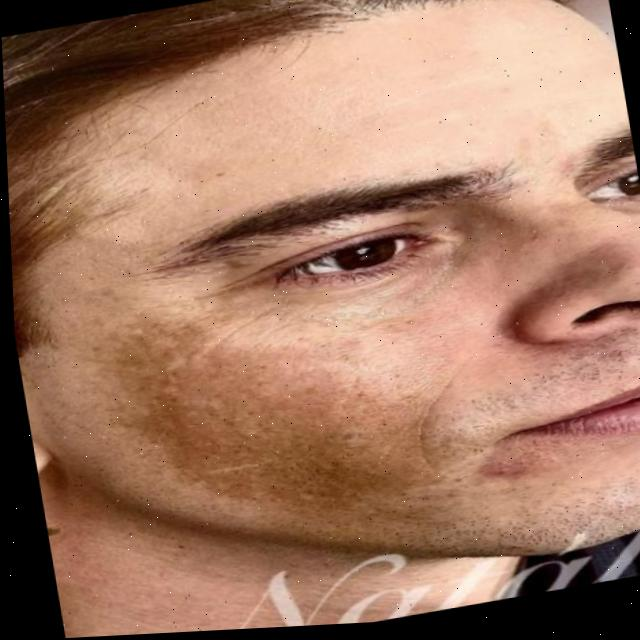Melasma: (131, 302, 407, 539)
